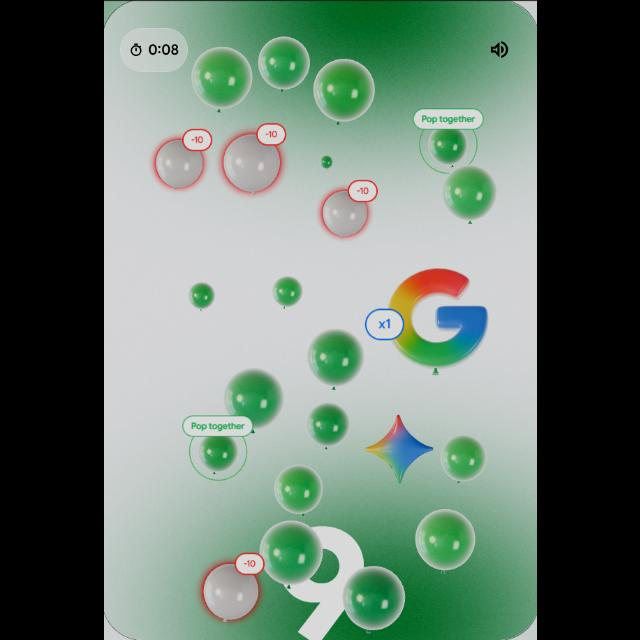gemini: (362, 413, 436, 483)
hazard: (222, 119, 284, 197), (198, 554, 266, 622), (148, 124, 215, 190), (316, 178, 380, 240)
safe: (310, 57, 380, 129), (190, 41, 254, 115), (412, 506, 478, 574), (255, 521, 322, 587), (344, 566, 406, 634), (302, 326, 363, 389), (222, 366, 282, 430), (258, 31, 310, 97), (440, 168, 498, 225), (268, 460, 328, 514), (441, 435, 487, 483), (304, 404, 352, 448), (270, 274, 302, 306), (188, 278, 210, 308), (318, 153, 334, 170)
safe-pair: (414, 105, 481, 171), (185, 415, 251, 479)
super_g: (363, 265, 491, 379)
